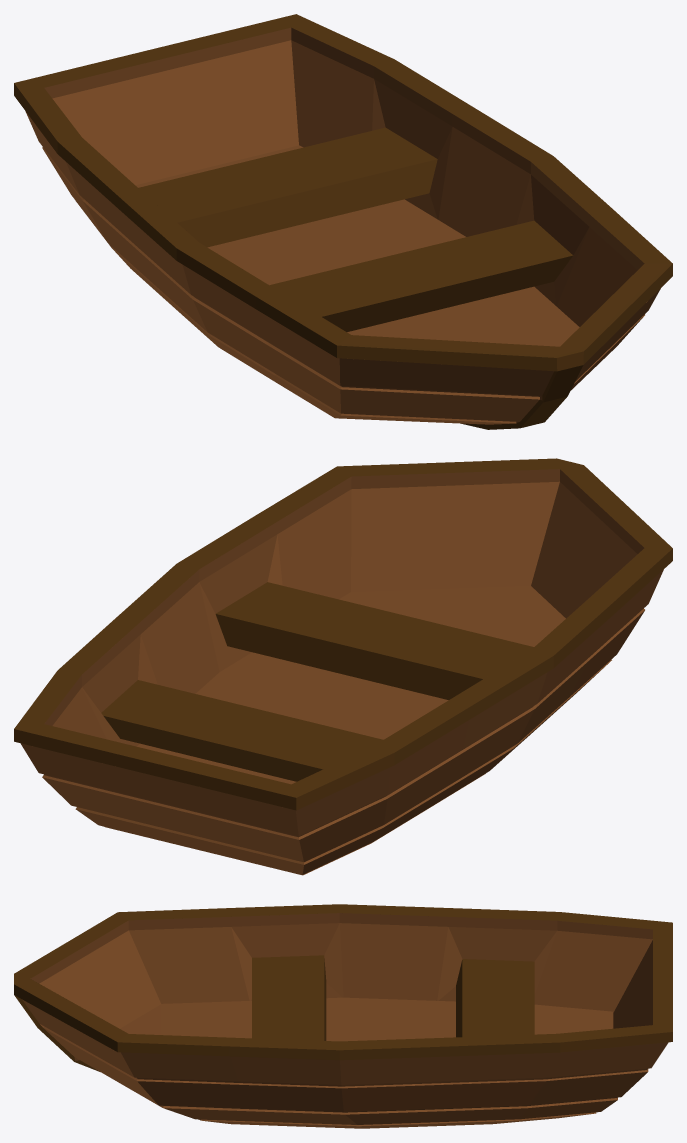
File: motorboat.lod0.glb
3 renders of one model, top to bottom at view 1: azimuth 30°, elevation 25°; view 2: azimuth 150°, elevation 25°; view 3: azimuth 270°, elevation 25°, orthographic. The views are drawn at different scales.
Visible parts, largest first — view 1: Boat_Material.001_0, Boat_Material.002_0; view 2: Boat_Material.001_0, Boat_Material.002_0; view 3: Boat_Material.001_0, Boat_Material.002_0.
Boxes of the visible parts, x1=… form: Boat_Material.001_0: x1=25, y1=27, x2=660, y2=424; Boat_Material.002_0: x1=14, y1=14, x2=672, y2=429; Boat_Material.001_0: x1=20, y1=469, x2=663, y2=875; Boat_Material.002_0: x1=14, y1=458, x2=672, y2=810; Boat_Material.001_0: x1=22, y1=913, x2=668, y2=1128; Boat_Material.002_0: x1=14, y1=904, x2=672, y2=1071.
Bounding box in the file's own units: 2.31 × 0.8229 × 4.4.
